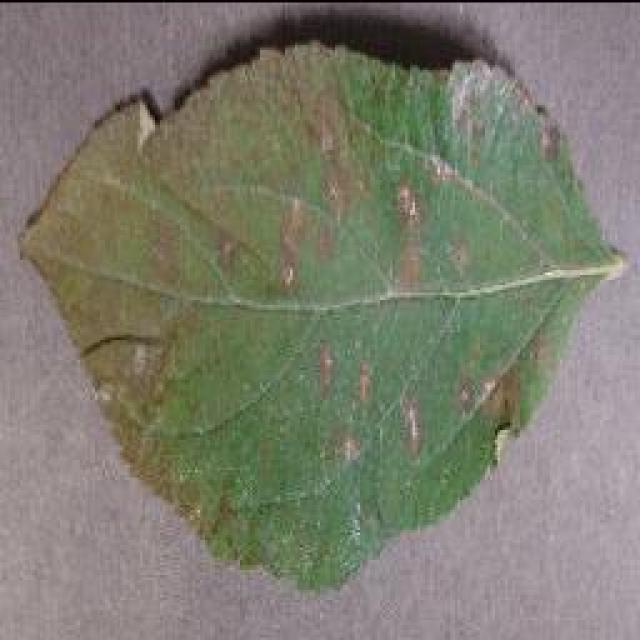Apple___Cedar_apple_rust: (16, 39, 632, 597)
